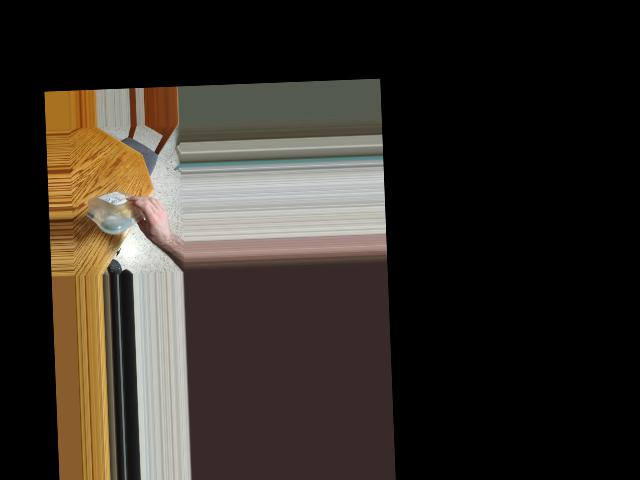cheese: (89, 191, 154, 229)
